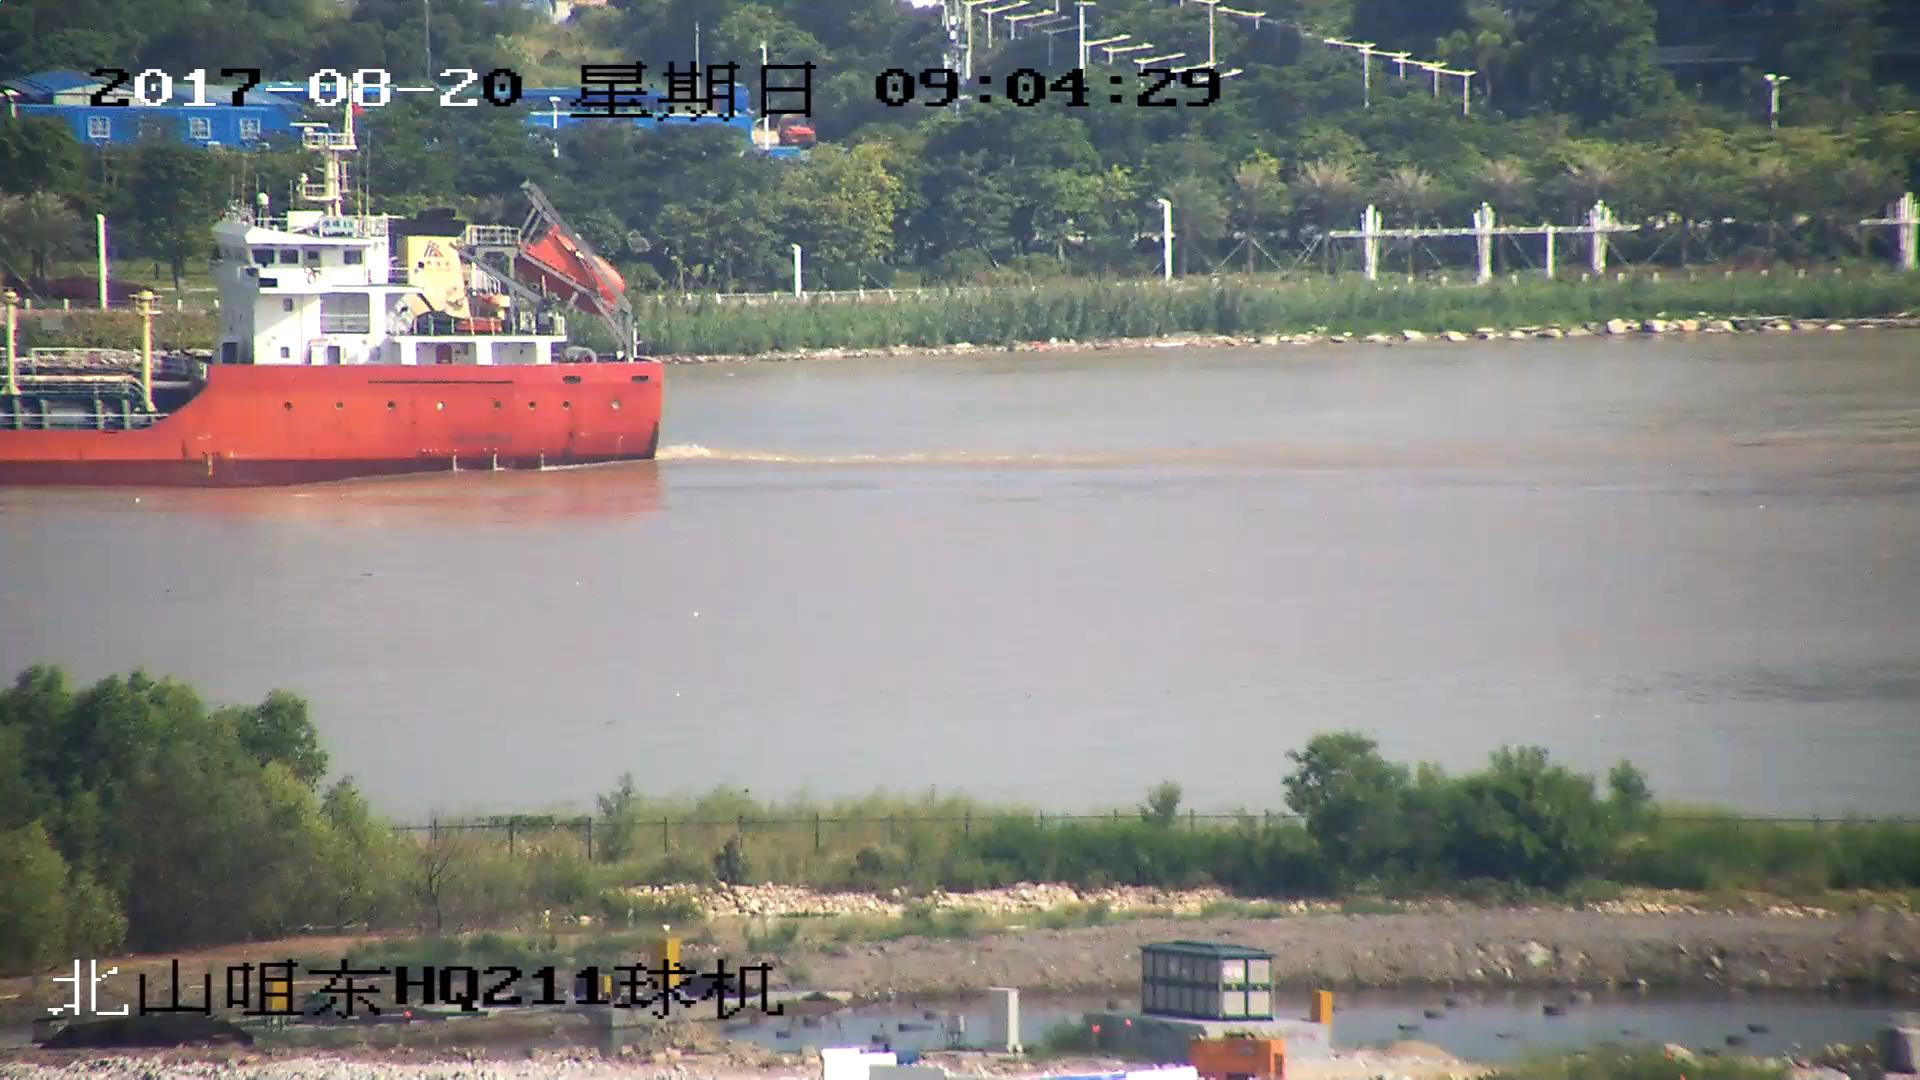general cargo ship: (1, 135, 669, 484)
